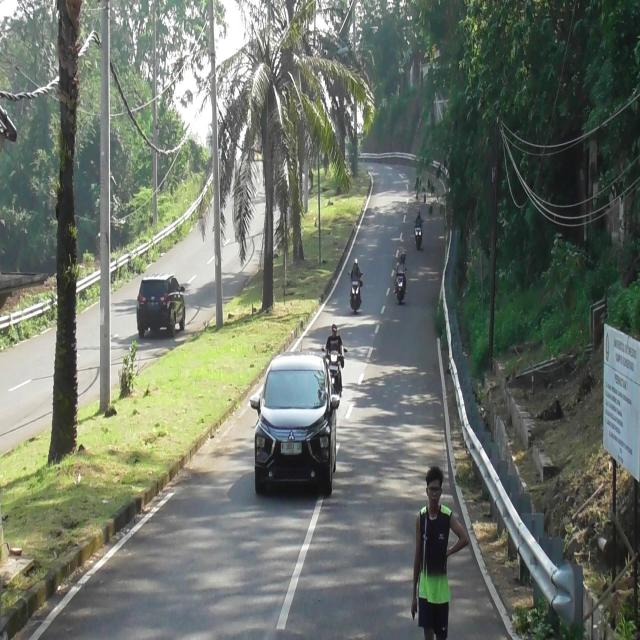motorcycle: (324, 344, 344, 407), (392, 268, 408, 304), (352, 274, 362, 314), (413, 223, 423, 251)
person: (325, 325, 345, 361), (350, 260, 362, 282), (395, 255, 405, 275), (415, 210, 422, 228), (399, 249, 406, 265)
rider_region: (323, 324, 344, 387), (390, 244, 410, 304), (347, 254, 364, 316), (410, 206, 424, 252)
